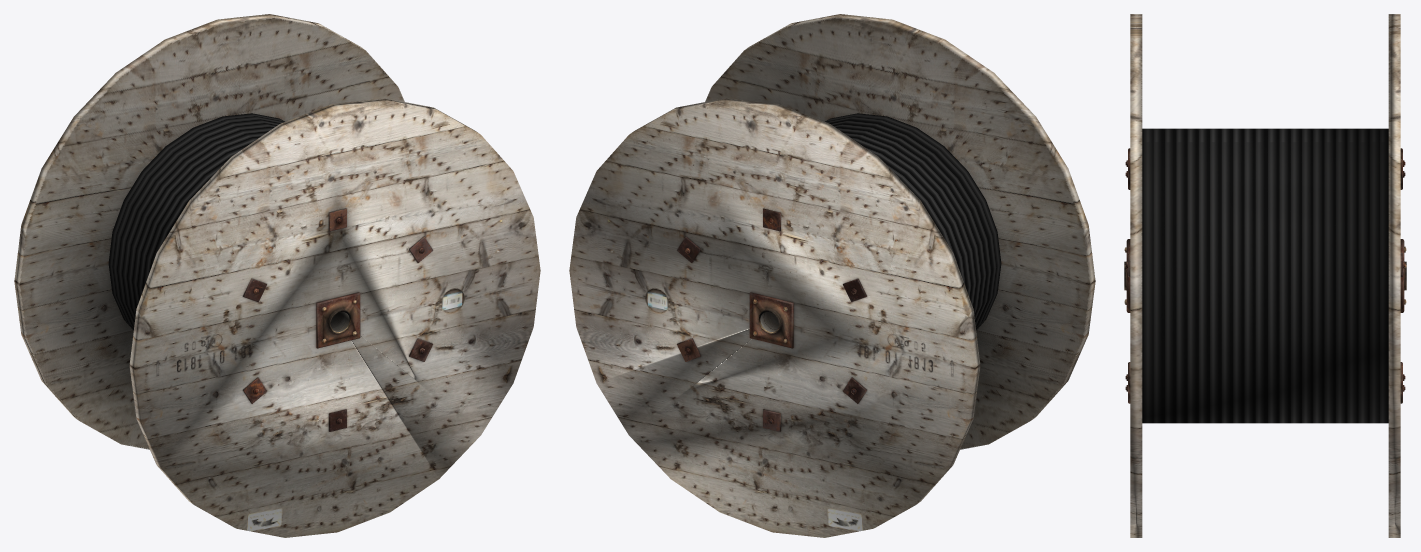
The model's file is cableRoll.FBX.
3 views of the same model, side by side, from view 1: azimuth 30°, elevation 25°; view 2: azimuth 150°, elevation 25°; view 3: azimuth 270°, elevation 25° (orthographic). The views are drawn at different scales.
Parts seen in each view (by area): view 1: cableRoll; view 2: cableRoll; view 3: cableRoll.
Boxes of the visible parts, x1,y1,x2,y2 form: cableRoll: [14, 14, 540, 537]; cableRoll: [569, 14, 1095, 537]; cableRoll: [1124, 14, 1406, 537].
Bounding box in the file's own units: 89.01 × 89.01 × 47.77.
